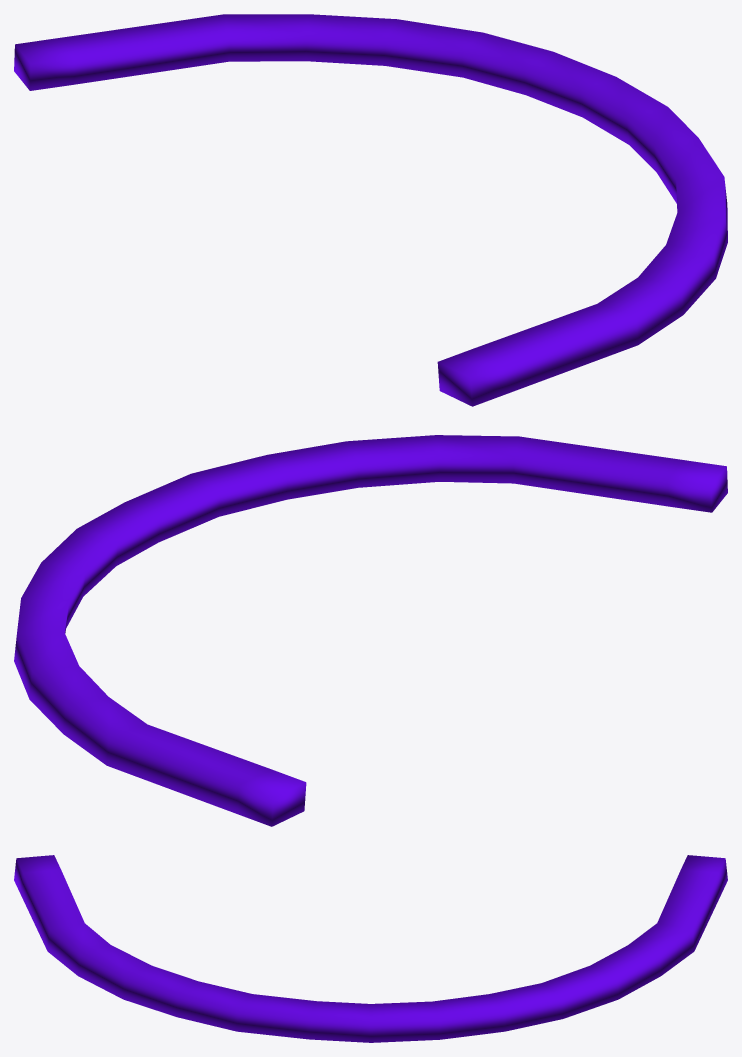
Rendered from Cupola_D.fbx.
3 views of the same model, one above another, from view 1: azimuth 30°, elevation 25°; view 2: azimuth 150°, elevation 25°; view 3: azimuth 270°, elevation 25° (orthographic). The views are drawn at different scales.
Parts seen in each view (by area): view 1: Cupola_D; view 2: Cupola_D; view 3: Cupola_D.
Boxes of the visible parts, bbox=[...] form: Cupola_D: bbox=[14, 14, 727, 406]; Cupola_D: bbox=[14, 435, 727, 826]; Cupola_D: bbox=[14, 855, 727, 1042].
Size of the model in its own units: 302 by 18.62 by 550.
